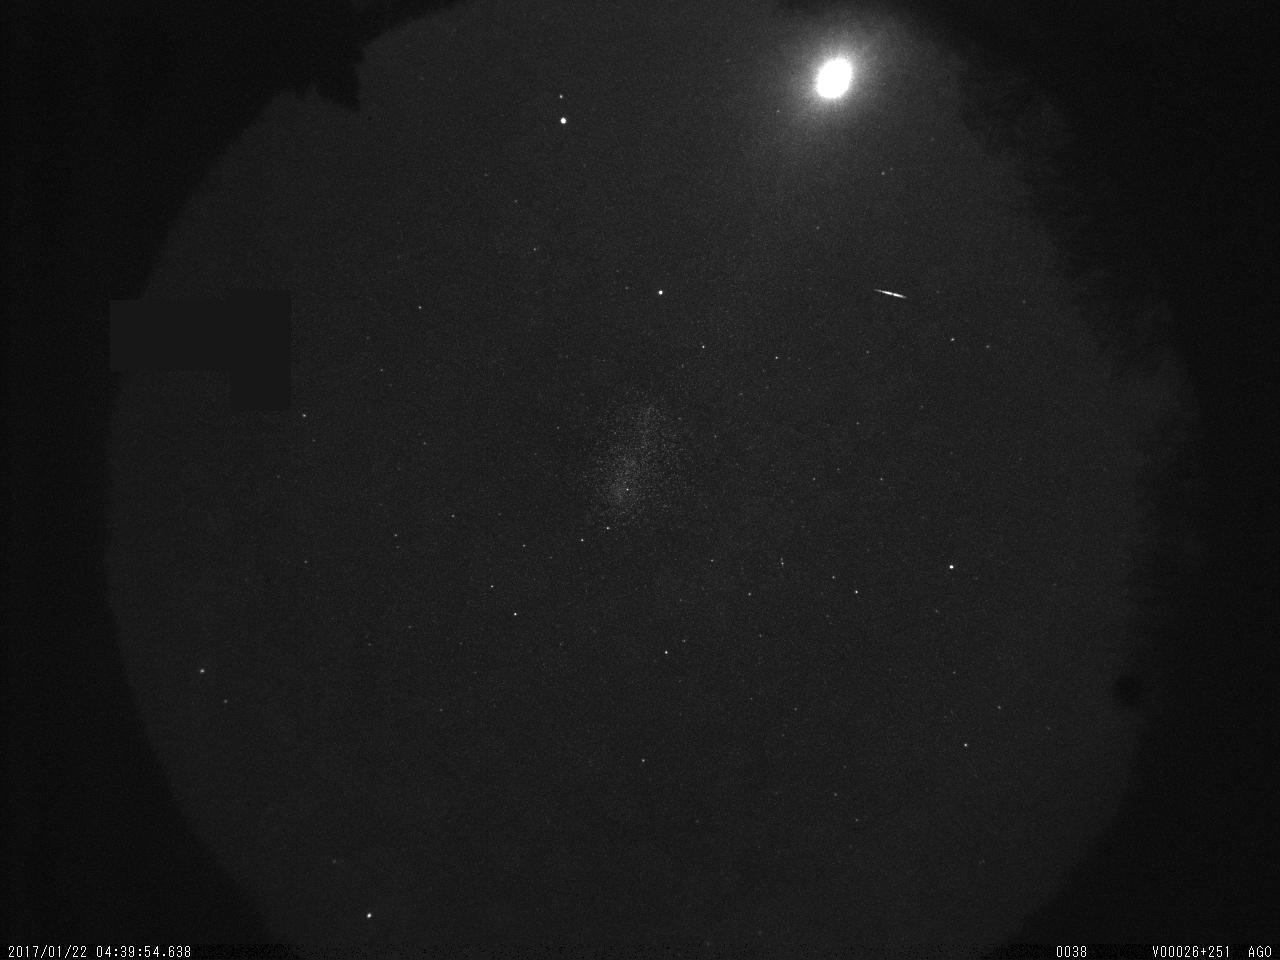Meteor: (872, 286, 908, 301)
